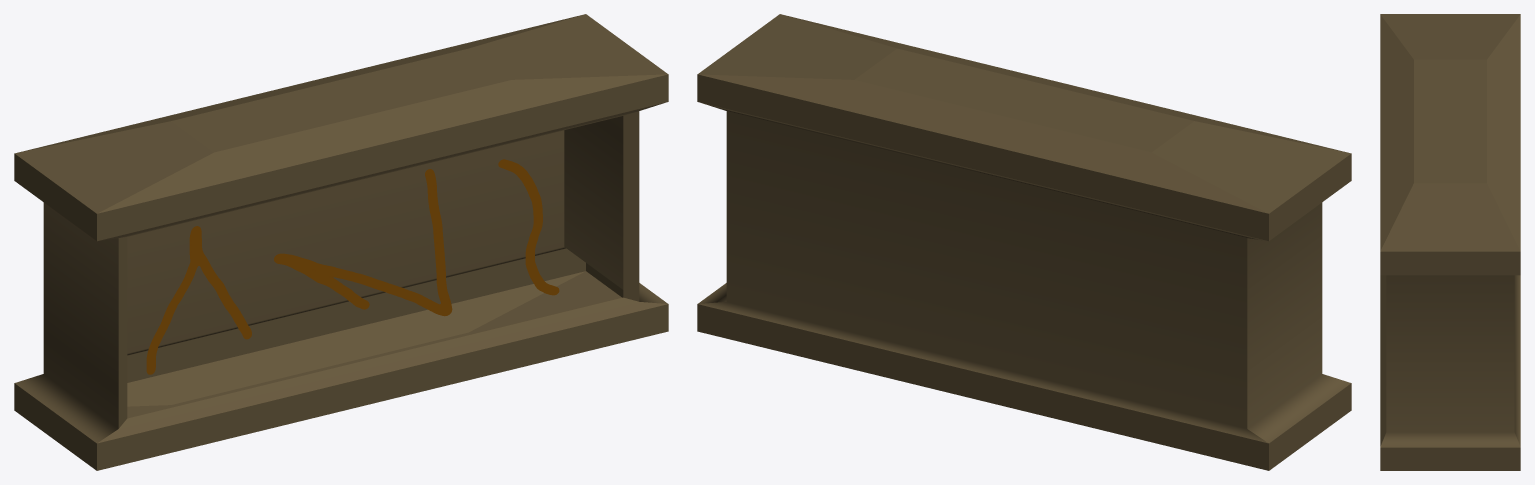
Rendered from Okay Seal.fbx.
The picture shows the model from 3 angles, left to right: view 1: azimuth 30°, elevation 25°; view 2: azimuth 150°, elevation 25°; view 3: azimuth 270°, elevation 25°; orthographic projection. The views are drawn at different scales.
Parts seen in each view (by area): view 1: pCube1; view 2: pCube1; view 3: pCube1.
Part boxes in pixels (x1,y1,x2,y2): pCube1: (14,14,668,470); pCube1: (697,14,1351,470); pCube1: (1380,14,1520,470).
Bounding box in the file's own units: 21.95 × 10.42 × 5.49.
Materials: 2 (1 with a texture image).
